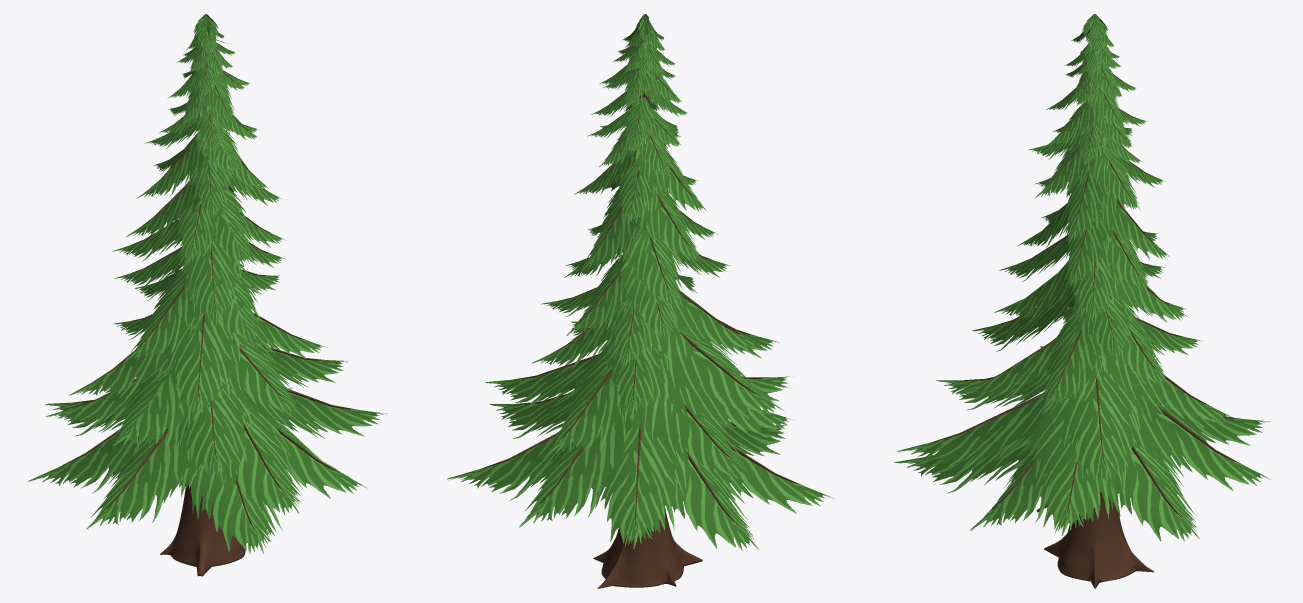
File: PineTree01(unoptimized).fbx
The picture shows the model from 3 angles, left to right: view 1: azimuth 30°, elevation 25°; view 2: azimuth 150°, elevation 25°; view 3: azimuth 270°, elevation 25°; orthographic projection. The views are drawn at different scales.
Visible parts, largest first — view 1: Cube.010, pineNeedles02.008, pineNeedles02.001, Cube.012, pineNeedles02.013, pineNeedles02, Trunk, Cube.003, Cube.001, Cube.005, pineNeedles02.006, pineNeedles02.012 (+24 smaller); view 2: pineNeedles02.010, Cube.009, Cube.013, pineNeedles02.017, Trunk, Cube.011, pineNeedles02.012, Cube.015, Cube.010, pineNeedles02.009, Cube.028, pineNeedles02 (+22 smaller); view 3: pineNeedles02.011, pineNeedles02.006, Trunk, pineNeedles02.009, Cube.013, pineNeedles02.001, Cube.004, Cube.011, pineNeedles02.013, Cube.007, Cube.008, Cube.029 (+21 smaller).
Part boxes in pixels (x1,y1,x2,y2): Cube.010: (86, 421, 204, 529); pineNeedles02.008: (162, 314, 245, 418); pineNeedles02.001: (182, 409, 303, 514); Cube.012: (176, 375, 256, 477); pineNeedles02.013: (179, 463, 282, 554); pineNeedles02: (111, 362, 196, 446); Trunk: (160, 104, 247, 576); Cube.003: (175, 236, 244, 325); Cube.001: (125, 267, 207, 361); Cube.005: (228, 335, 300, 415); pineNeedles02.006: (245, 389, 387, 438); pineNeedles02.012: (28, 429, 147, 493); pineNeedles02.010: (592, 413, 693, 549); Cube.009: (646, 325, 783, 419); Cube.013: (519, 409, 656, 527); pineNeedles02.017: (634, 377, 749, 479); Trunk: (593, 91, 702, 588); Cube.011: (545, 344, 654, 457); pineNeedles02.012: (663, 446, 758, 550); Cube.015: (618, 221, 683, 307); Cube.010: (714, 442, 833, 513); pineNeedles02.009: (447, 432, 560, 500); Cube.028: (602, 337, 673, 416); pineNeedles02: (659, 372, 794, 437); pineNeedles02.011: (1049, 355, 1144, 484); pineNeedles02.006: (1026, 401, 1138, 535); Trunk: (1044, 491, 1154, 588); pineNeedles02.009: (1108, 436, 1199, 541); Cube.013: (1125, 390, 1271, 490); pineNeedles02.001: (897, 393, 1051, 473); Cube.004: (1040, 308, 1109, 409); Cube.011: (1102, 352, 1234, 427); pineNeedles02.013: (894, 436, 1042, 493); Cube.007: (970, 450, 1051, 531); Cube.008: (1071, 282, 1134, 357); Cube.029: (1065, 166, 1113, 243).
Bounding box in the file's own units: 1289 × 1934 × 1306.
